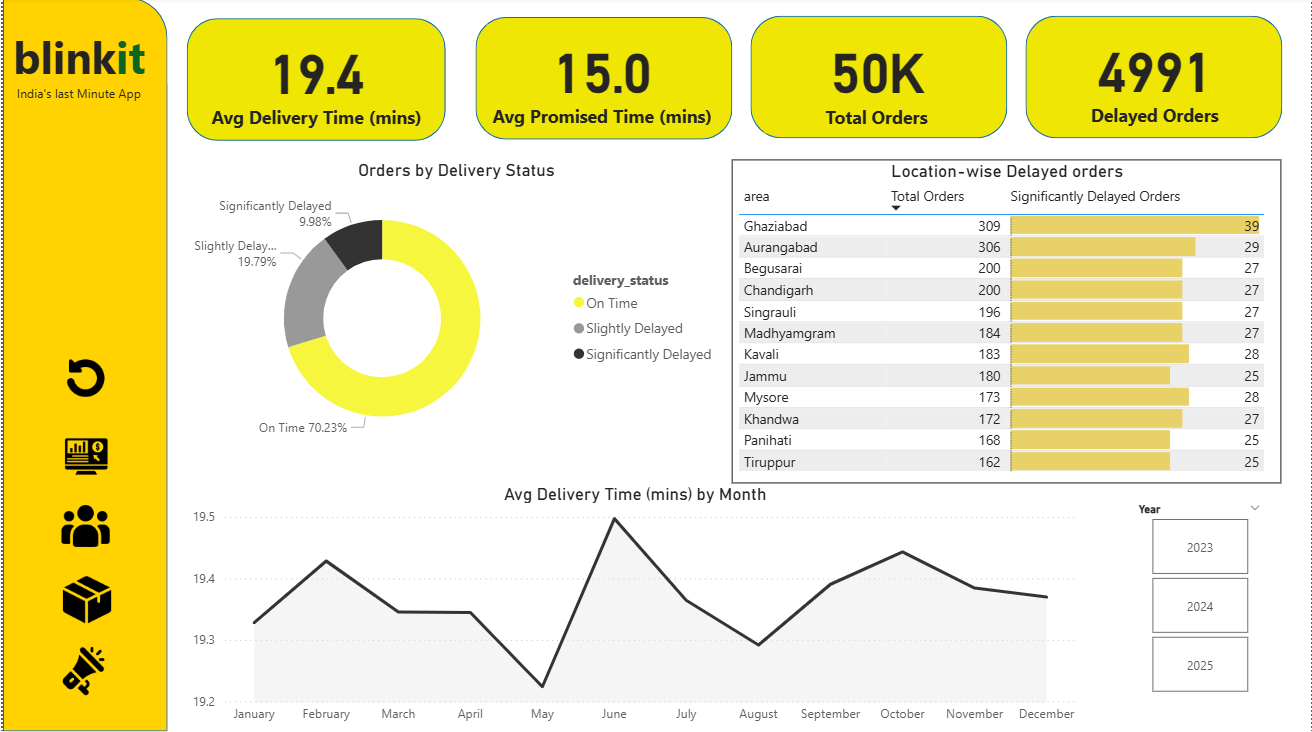

The page's visual inventory and layout, read from the dashboard file:
{"tool":"powerbi","page":{"name":"Delivery","canvas":[1280,720],"ordinal":4},"visuals":[{"type":"shape","box":[179.8,21.3,253.2,119.8],"z":0},{"type":"shape","box":[0,0,161,719.5],"z":1000},{"type":"textbox","box":[0,24.7,149.4,76.6],"z":2000},{"type":"card","fields":{"Values":[" Measure table.Avg Delivery Time (mins)"]},"box":[194.4,28.1,225,105.2],"z":3000},{"type":"shape","box":[462,19.3,251.3,119.8],"z":4000},{"type":"card","fields":{"Values":["Measure table.Avg Promised Time (mins)"]},"box":[473.2,26.9,226.2,105.2],"z":5000},{"type":"shape","box":[731.8,18.5,251.3,119.8],"z":6000},{"type":"card","fields":{"Values":["Measure table.Total Orders"]},"box":[744.7,26.9,220.1,106.4],"z":7000},{"type":"shape","box":[1000.8,18.5,251.3,119.8],"z":8000},{"type":"card","fields":{"Values":["Measure table.Delayed Orders"]},"box":[1022.3,24.5,209.1,107.6],"z":9000},{"type":"lineChart","fields":{"Y":["Measure table.Avg Delivery Time (mins)"],"Category":["Calendar.Date.Variation.Date Hierarchy.Year","Calendar.Date.Variation.Date Hierarchy.Quarter","Calendar.Date.Variation.Date Hierarchy.Month","Calendar.Date.Variation.Date Hierarchy.Day"]},"box":[179.8,475.5,877.6,243.6],"z":10000},{"type":"tableEx","title":"Location-wise Delayed orders","fields":{"Values":["Customer.area","Measure table.Total Orders","Measure table.Significantly Delayed Orders"]},"box":[699.4,157.6,550.9,317.1],"z":11000},{"type":"donutChart","title":"Orders by Delivery Status","fields":{"Category":["Master_table.delivery_status"],"Y":["Measure table.Total Orders"]},"box":[179.4,157.6,527.3,304.4],"z":12000},{"type":"slicer","fields":{"Values":["Calendar.Date.Variation.Date Hierarchy.Year"]},"box":[1098.1,489.4,144.2,197.6],"z":13000},{"type":"image","box":[32,423.6,99.7,53.4],"z":14000},{"type":"image","box":[42.7,489.4,76.5,57],"z":15000},{"type":"image","box":[43.4,630.4,71.7,56.6],"z":16000},{"type":"image","box":[53.4,557.1,57,64.1],"z":17000},{"type":"image","box":[50.5,346.5,60.9,54],"z":18000},{"type":"textbox","box":[8.9,80.1,144.2,33.8],"z":19000}]}

Visuals, with their boxes on the page's 1280x720 design canvas (x1, y1, x2, y2). These are canvas units, not pixel positions in the 1312x732 screenshot, which may show the page scaled, cropped or inside an application window:
shape: (left=180, top=21, right=433, bottom=141)
shape: (left=0, top=0, right=161, bottom=720)
textbox: (left=0, top=25, right=149, bottom=101)
card -  Measure table.Avg Delivery Time (mins): (left=194, top=28, right=419, bottom=133)
shape: (left=462, top=19, right=713, bottom=139)
card - Measure table.Avg Promised Time (mins): (left=473, top=27, right=699, bottom=132)
shape: (left=732, top=18, right=983, bottom=138)
card - Measure table.Total Orders: (left=745, top=27, right=965, bottom=133)
shape: (left=1001, top=18, right=1252, bottom=138)
card - Measure table.Delayed Orders: (left=1022, top=24, right=1231, bottom=132)
lineChart - Measure table.Avg Delivery Time (mins) x Calendar.Date.Variation.Date Hierarchy.Year: (left=180, top=476, right=1057, bottom=719)
"Location-wise Delayed orders" tableEx: (left=699, top=158, right=1250, bottom=475)
"Orders by Delivery Status" donutChart: (left=179, top=158, right=707, bottom=462)
slicer - Calendar.Date.Variation.Date Hierarchy.Year: (left=1098, top=489, right=1242, bottom=687)
image: (left=32, top=424, right=132, bottom=477)
image: (left=43, top=489, right=119, bottom=546)
image: (left=43, top=630, right=115, bottom=687)
image: (left=53, top=557, right=110, bottom=621)
image: (left=50, top=346, right=111, bottom=400)
textbox: (left=9, top=80, right=153, bottom=114)
